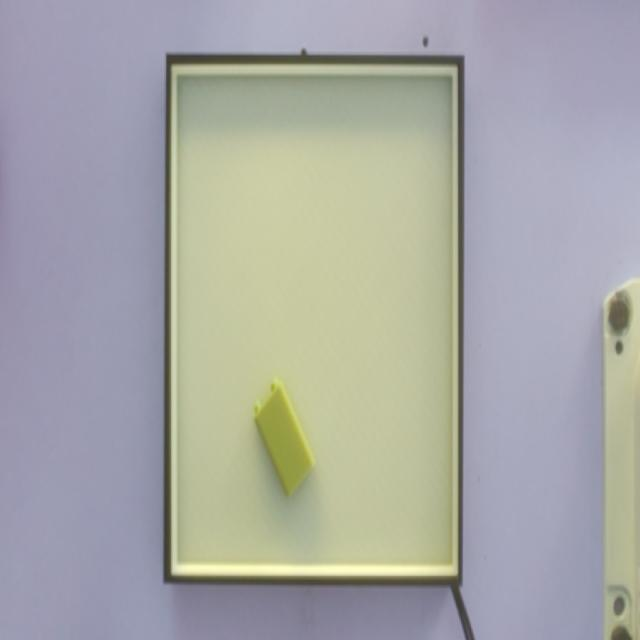bateria: (254, 380, 316, 500)
mesa: (162, 54, 464, 586)
